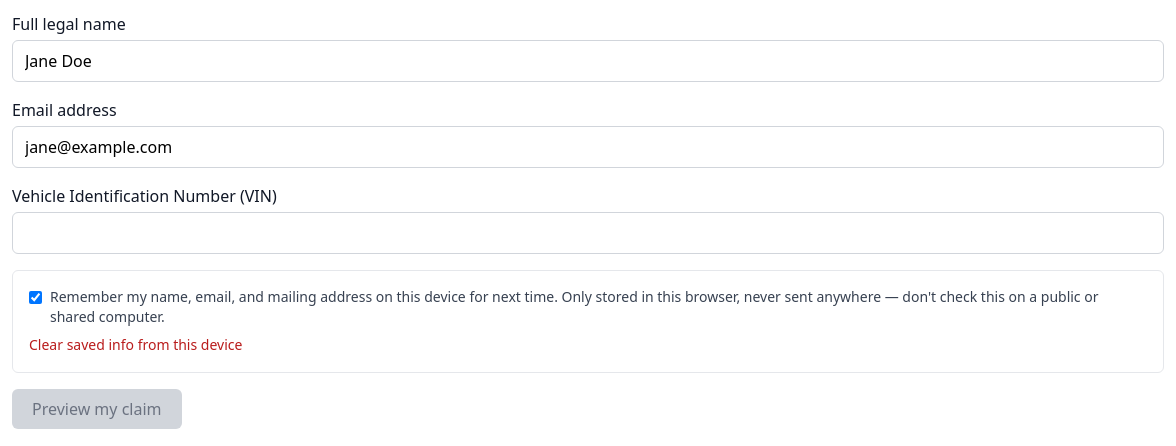
Test case: ClaimForm saved profile › clears the saved profile when "Clear saved info" is clicked
The image size is (1176, 446).
Click the button "Clear saved info from this device": x=136, y=345 [29,335,242,355]
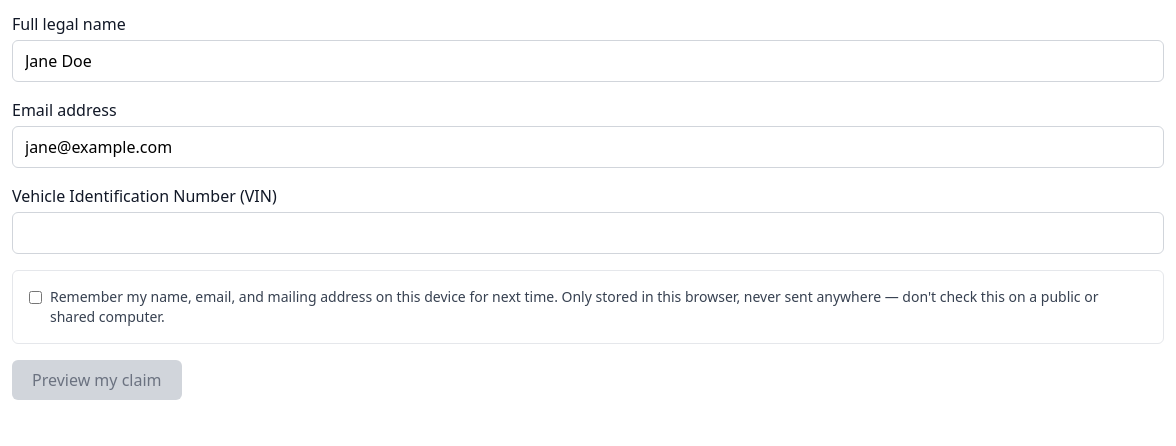
Expected: the button "Clear saved info" is gone
